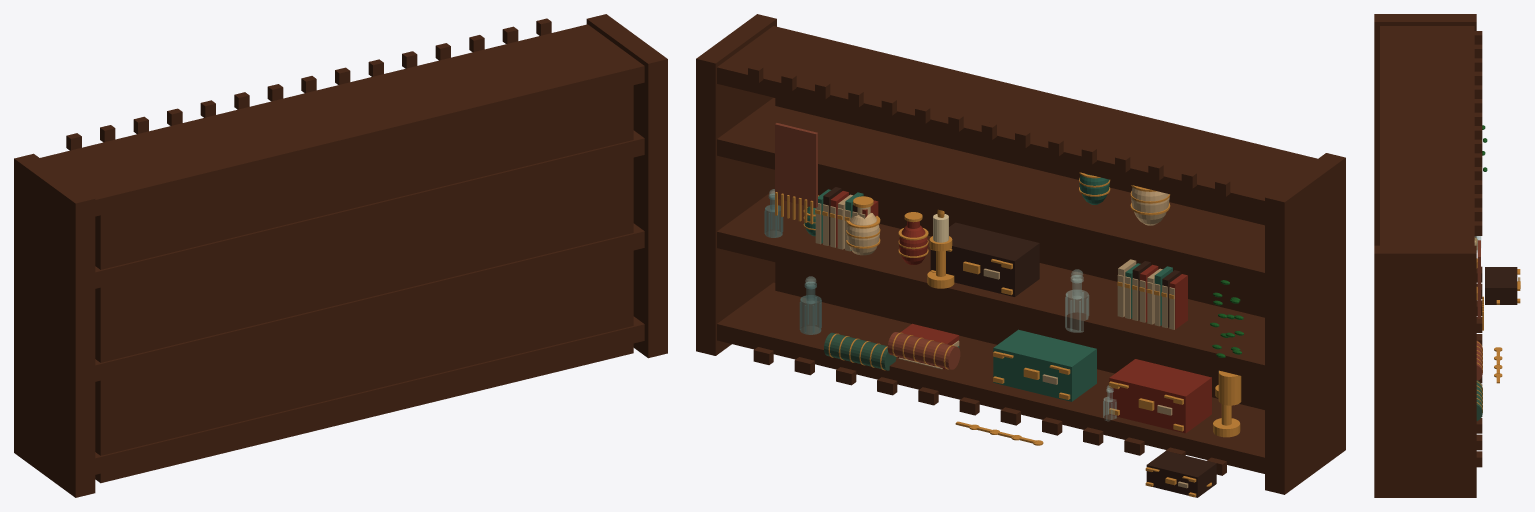
Rendered from interior-props-set.obj.
3 renders of one model, left to right at view 1: azimuth 30°, elevation 25°; view 2: azimuth 150°, elevation 25°; view 3: azimuth 270°, elevation 25°, orthographic. The views are drawn at different scales.
Visible parts, largest first — view 1: carved_shelf_back_panel, carved_shelf_slab_y_2.78, carved_side_column_-2.9, carved_side_column_2.9, carved_shelf_slab_y_0.28, carved_shelf_slab_y_1.18, carved_shelf_slab_y_2.08; view 2: carved_shelf_slab_y_2.78, carved_shelf_slab_y_2.08, carved_side_column_-2.9, carved_shelf_slab_y_1.18, carved_shelf_slab_y_0.28, carved_shelf_back_panel, carved_side_column_2.9, red_leather_box_lower_left_body, green_travel_box_lower_center_body, dark_wood_box_mid_body, draped_red_textile_panel, small_table_box_front_body (+9 smaller); view 3: carved_side_column_2.9, carved_shelf_slab_y_2.78, carved_side_column_-2.9, small_table_box_front_body, draped_red_textile_panel, green_woven_roll_roll, red_woven_roll_roll.
Boxes of the visible parts, left/top/right/bottom form: carved_shelf_back_panel: left=95, top=85, right=633, bottom=483; carved_shelf_slab_y_2.78: left=40, top=24, right=644, bottom=216; carved_side_column_-2.9: left=14, top=153, right=95, bottom=497; carved_side_column_2.9: left=586, top=14, right=667, bottom=358; carved_shelf_slab_y_0.28: left=95, top=316, right=644, bottom=474; carved_shelf_slab_y_1.18: left=95, top=223, right=644, bottom=381; carved_shelf_slab_y_2.08: left=95, top=130, right=644, bottom=288; carved_shelf_slab_y_2.78: left=717, top=26, right=1317, bottom=217; carved_shelf_slab_y_2.08: left=717, top=98, right=1264, bottom=289; carved_side_column_-2.9: left=1265, top=153, right=1345, bottom=494; carved_shelf_slab_y_1.18: left=717, top=190, right=1264, bottom=381; carved_shelf_slab_y_0.28: left=717, top=282, right=1264, bottom=473; carved_shelf_back_panel: left=775, top=98, right=1264, bottom=409; carved_side_column_2.9: left=696, top=14, right=776, bottom=355; red_leather_box_lower_left_body: left=1109, top=359, right=1211, bottom=433; green_travel_box_lower_center_body: left=993, top=329, right=1096, bottom=401; dark_wood_box_mid_body: left=930, top=222, right=1039, bottom=296; draped_red_textile_panel: left=775, top=123, right=817, bottom=207; small_table_box_front_body: left=1146, top=451, right=1216, bottom=497; carved_side_column_2.9: left=1374, top=245, right=1476, bottom=497; carved_shelf_slab_y_2.78: left=1380, top=26, right=1474, bottom=245; carved_side_column_-2.9: left=1374, top=14, right=1476, bottom=245; small_table_box_front_body: left=1485, top=267, right=1517, bottom=304; draped_red_textile_panel: left=1477, top=240, right=1480, bottom=318; green_woven_roll_roll: left=1476, top=380, right=1482, bottom=420; red_woven_roll_roll: left=1476, top=340, right=1482, bottom=380.
Bounding box in the file's own units: 6 × 2.92 × 1.55.
